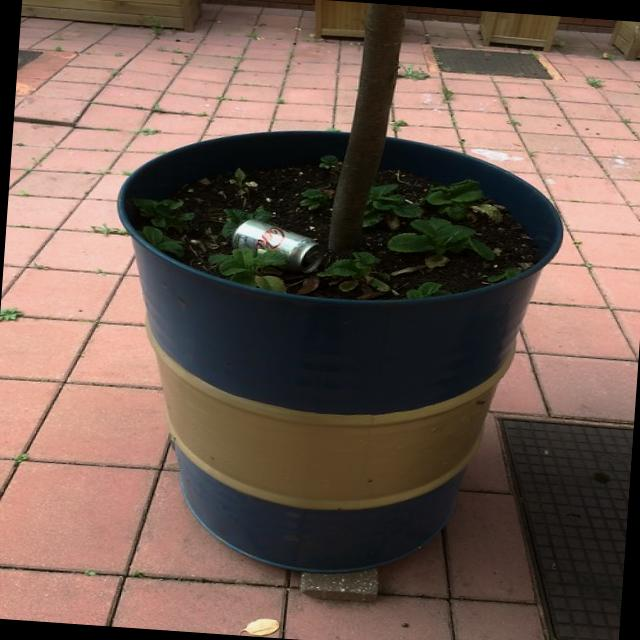Trash: (232, 210, 326, 270)
